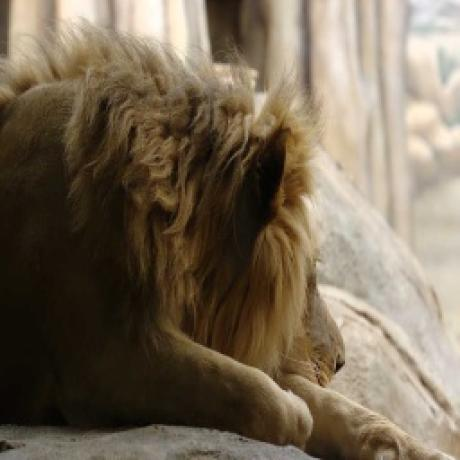Lion: (0, 7, 438, 460)
